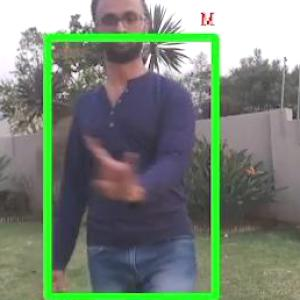takeoff-hand: (79, 130, 140, 197)
